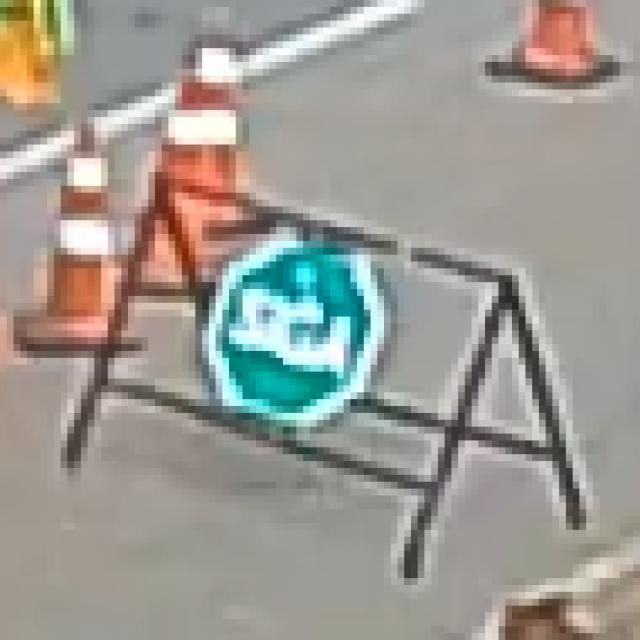go_sign: (195, 234, 397, 434)
small_cone: (40, 131, 115, 351), (162, 28, 249, 200)
